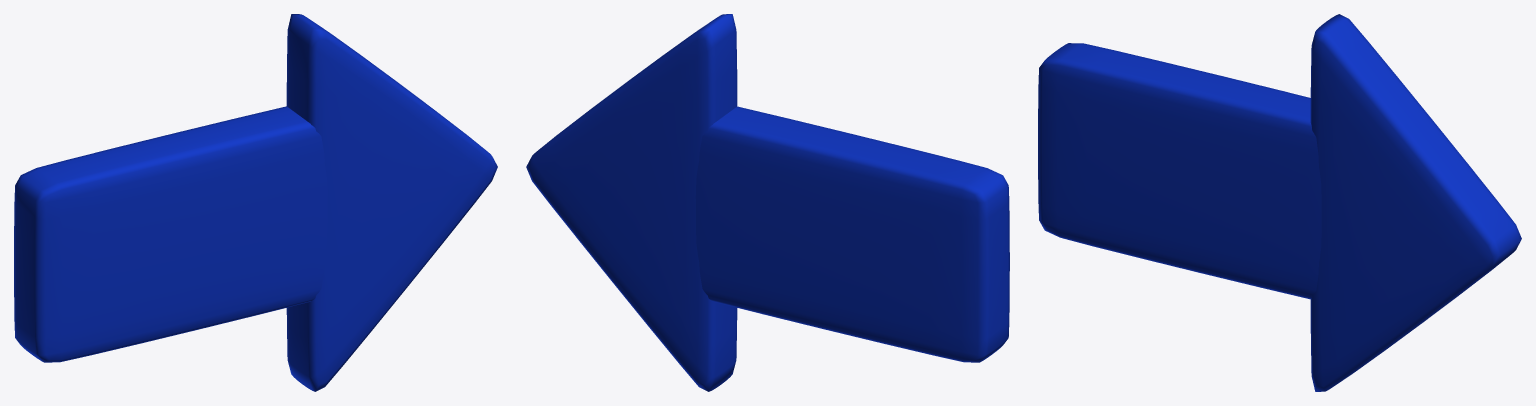
The model's file is 箭头dae.dae.
The picture shows the model from 3 angles, left to right: view 1: azimuth 30°, elevation 25°; view 2: azimuth 150°, elevation 25°; view 3: azimuth 330°, elevation 25°; orthographic projection.
Parts seen in each view (by area): view 1: pCube2, pCube3; view 2: pCube2, pCube3; view 3: pCube2, pCube3.
Part boxes in pixels (x1,y1,x2,y2): pCube2: [14, 106, 327, 362]; pCube3: [286, 14, 497, 391]; pCube2: [695, 106, 1009, 362]; pCube3: [526, 14, 737, 391]; pCube2: [1038, 43, 1321, 299]; pCube3: [1310, 14, 1521, 391].
Bounding box in the file's own units: 1.22 × 0.916 × 0.1431.
